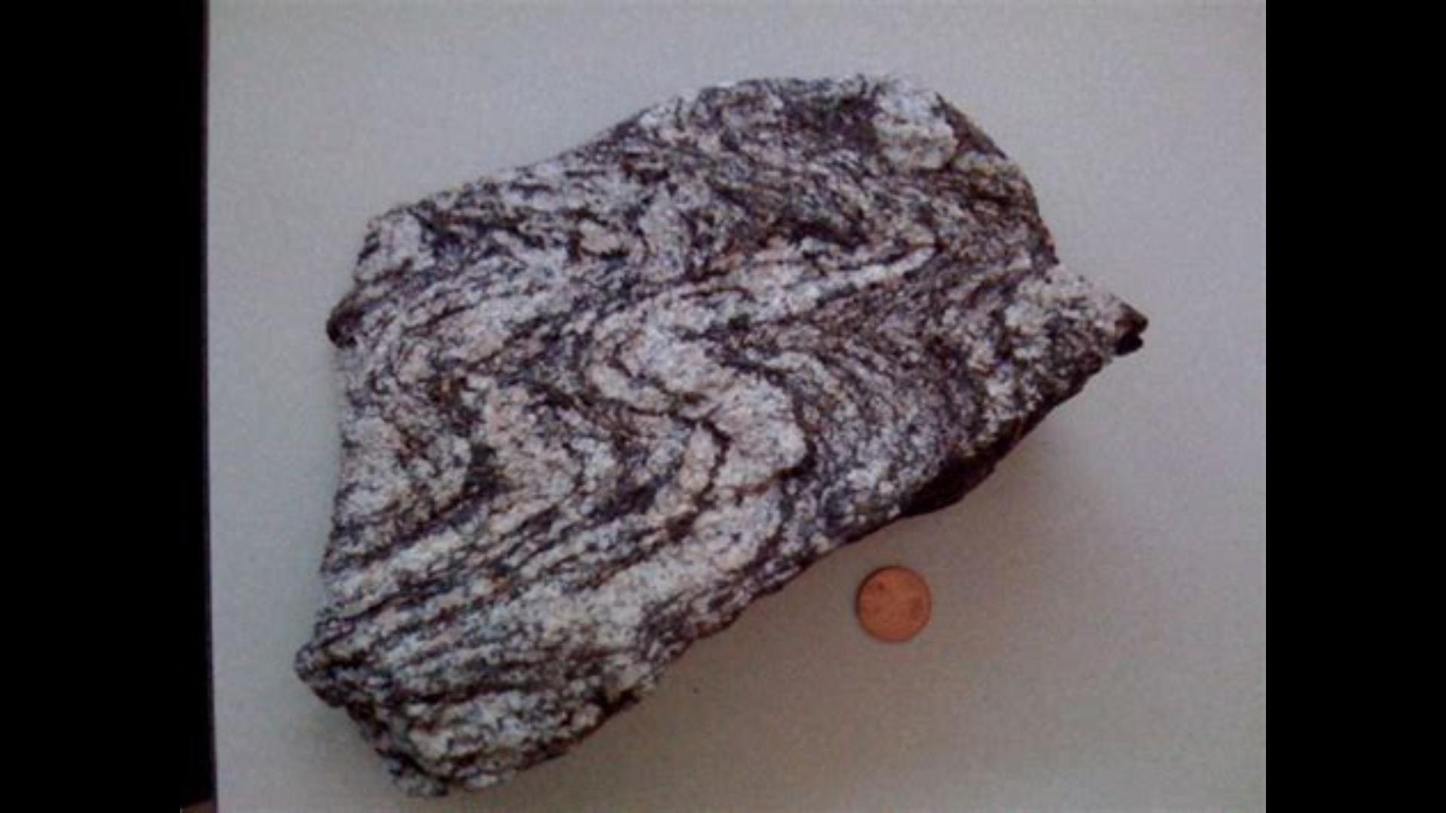rock: (297, 78, 1142, 781)
